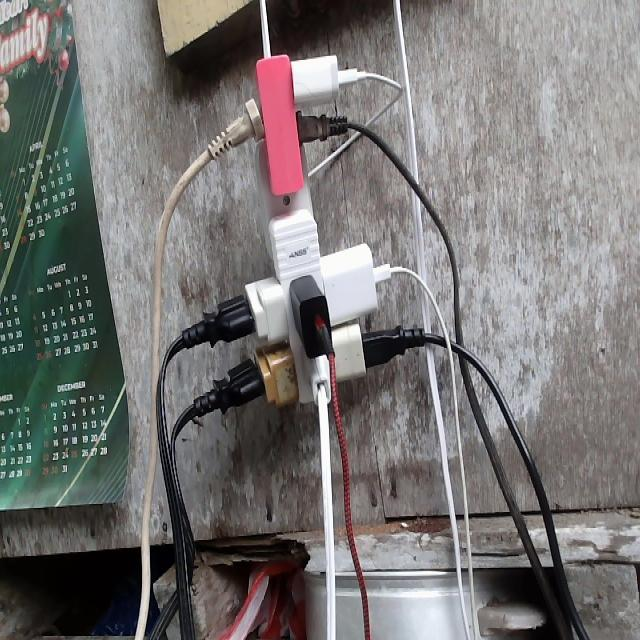-: (176, 49, 428, 416)
